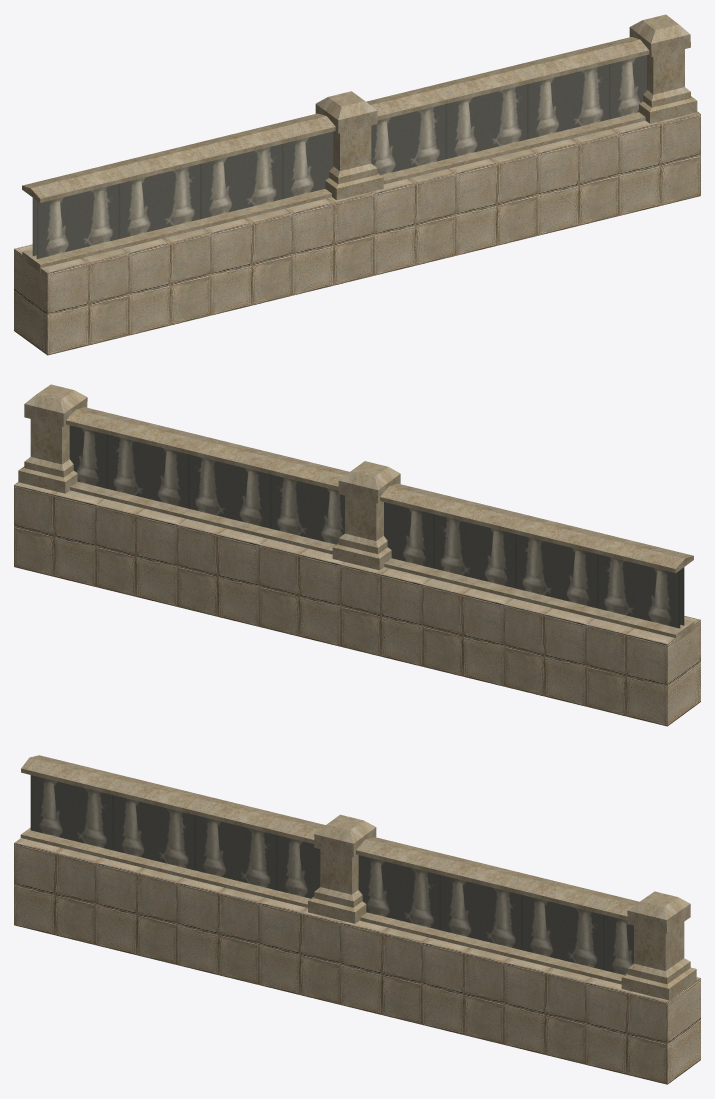
File: thm_nboo_imprv_pillar_wall_large_s01_l0.fbx
The picture shows the model from 3 angles, top to bottom: view 1: azimuth 30°, elevation 25°; view 2: azimuth 150°, elevation 25°; view 3: azimuth 330°, elevation 25°; orthographic projection.
Parts seen in each view (by area): view 1: mesh_node; view 2: mesh_node; view 3: mesh_node.
Boxes of the visible parts, <box> form: mesh_node: <box>14,14,700,355</box>; mesh_node: <box>14,384,700,726</box>; mesh_node: <box>14,755,700,1084</box>.
Size of the model in its own units: 8.31 by 2.04 by 0.7387.
